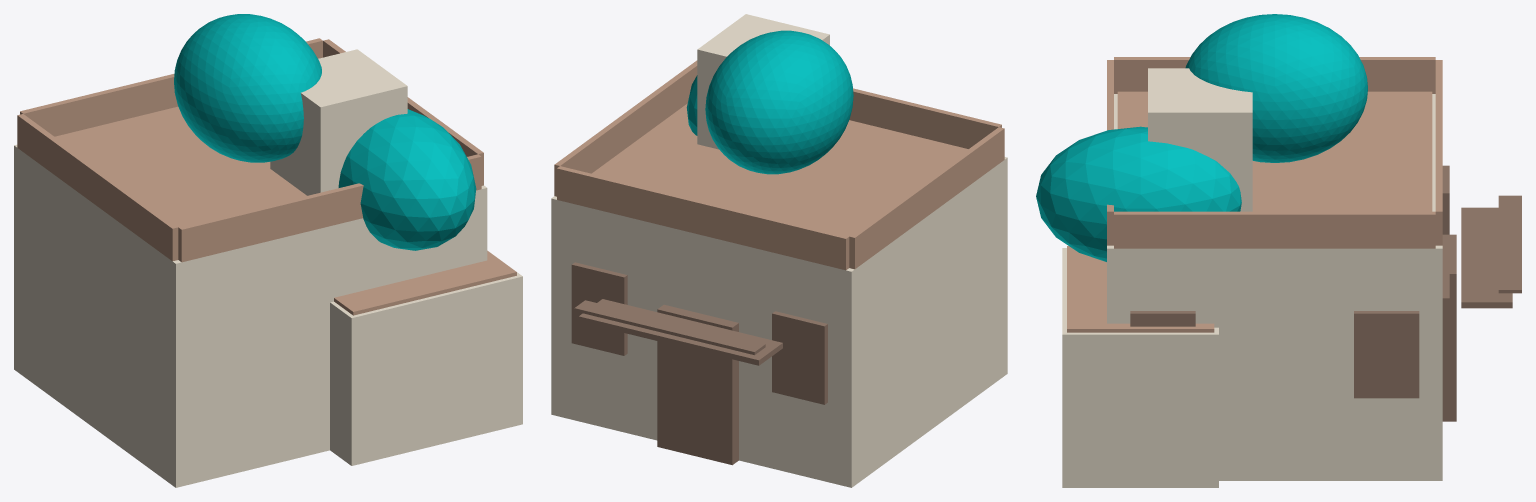
File: persian-house-base.glb
3 views of the same model, side by side, from view 1: azimuth 30°, elevation 25°; view 2: azimuth 150°, elevation 25°; view 3: azimuth 270°, elevation 25° (orthographic). The views are drawn at different scales.
Parts seen in each view (by area): view 1: Persian_House_Base; view 2: Persian_House_Base; view 3: Persian_House_Base.
Part boxes in pixels (<box>): Persian_House_Base: <box>14,14,522,487</box>; Persian_House_Base: <box>551,14,1007,487</box>; Persian_House_Base: <box>1036,14,1521,487</box>.
Bounding box in the file's own units: 8.36 × 9.02 × 10.42.
